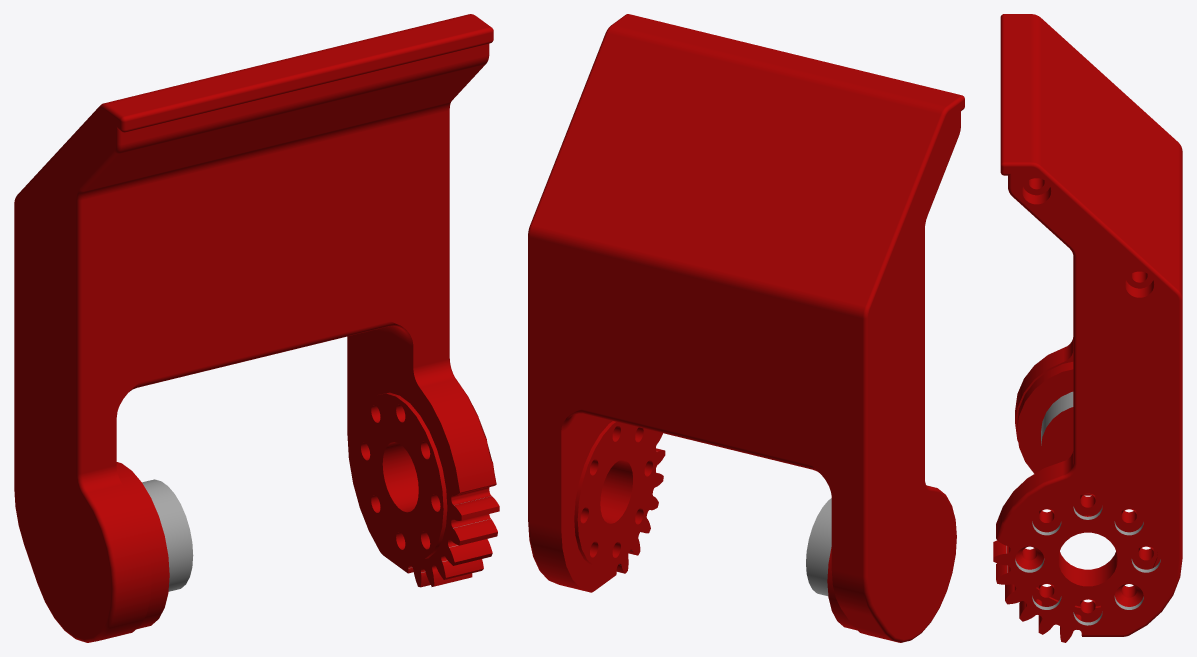
The model's file is Sciurus17_l8_1.gltf.
3 renders of one model, left to right at view 1: azimuth 30°, elevation 25°; view 2: azimuth 150°, elevation 25°; view 3: azimuth 270°, elevation 25°, orthographic. The views are drawn at different scales.
Parts seen in each view (by area): view 1: Sciurus17_Left_HandD3; view 2: Sciurus17_Left_HandD3; view 3: Sciurus17_Left_HandD3.
Part boxes in pixels (box(x1,y1,x2,y2)): Sciurus17_Left_HandD3: box(14, 14, 499, 642); Sciurus17_Left_HandD3: box(528, 14, 964, 642); Sciurus17_Left_HandD3: box(993, 14, 1182, 642).
Bounding box in the file's own units: 0.049 × 0.0726 × 0.026.
